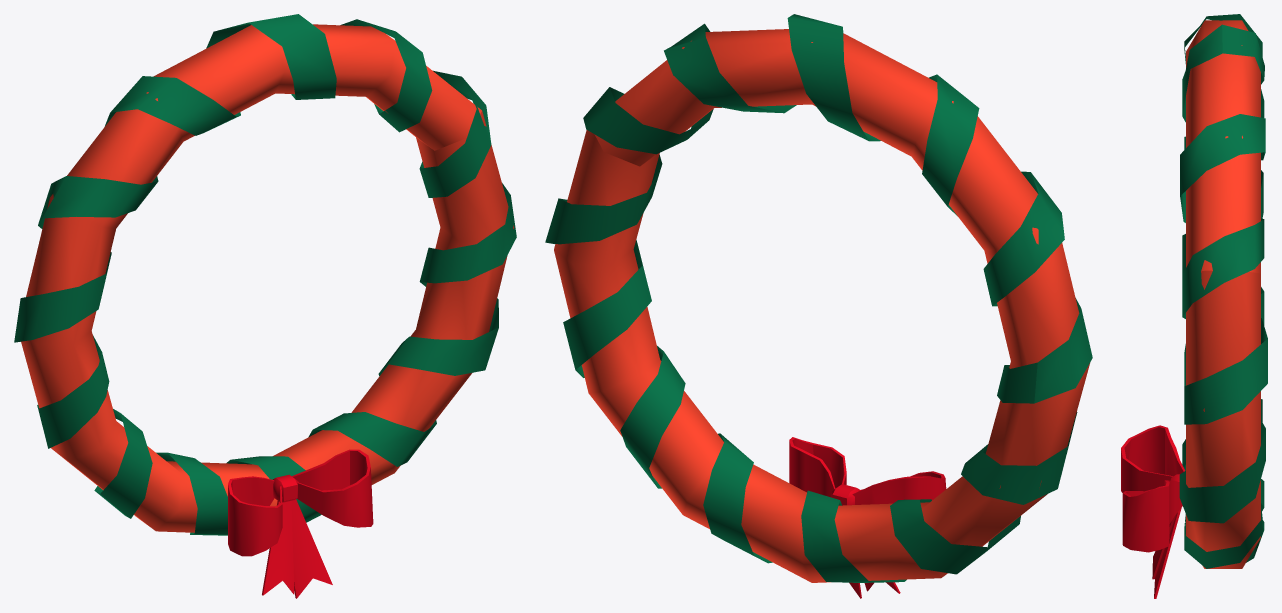
The model's file is Christmas_wreath_4.fbx.
The picture shows the model from 3 angles, left to right: view 1: azimuth 30°, elevation 25°; view 2: azimuth 150°, elevation 25°; view 3: azimuth 270°, elevation 25°; orthographic projection. The views are drawn at different scales.
Parts seen in each view (by area): view 1: Christmas_wreath_4; view 2: Christmas_wreath_4; view 3: Christmas_wreath_4.
Part boxes in pixels (left/top/right/bottom): Christmas_wreath_4: left=14, top=14, right=516, bottom=598; Christmas_wreath_4: left=545, top=14, right=1092, bottom=598; Christmas_wreath_4: left=1121, top=14, right=1267, bottom=598.
Bounding box in the file's own units: 105 × 114 × 27.33.
